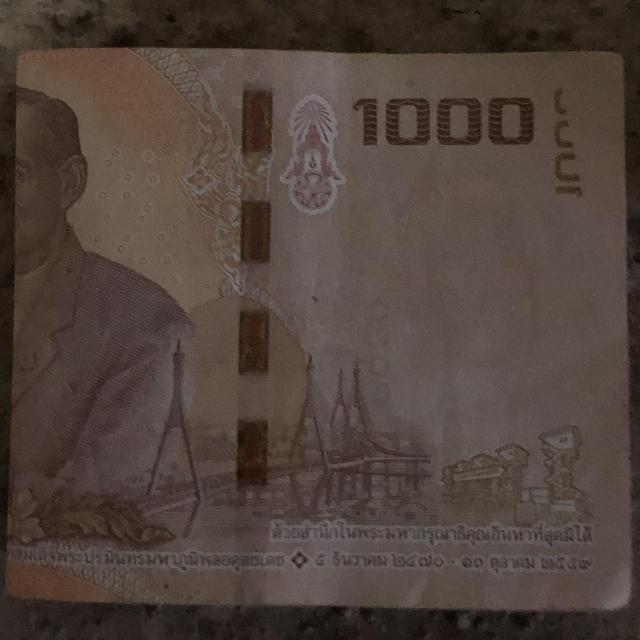THAI1000: (8, 49, 631, 610)
